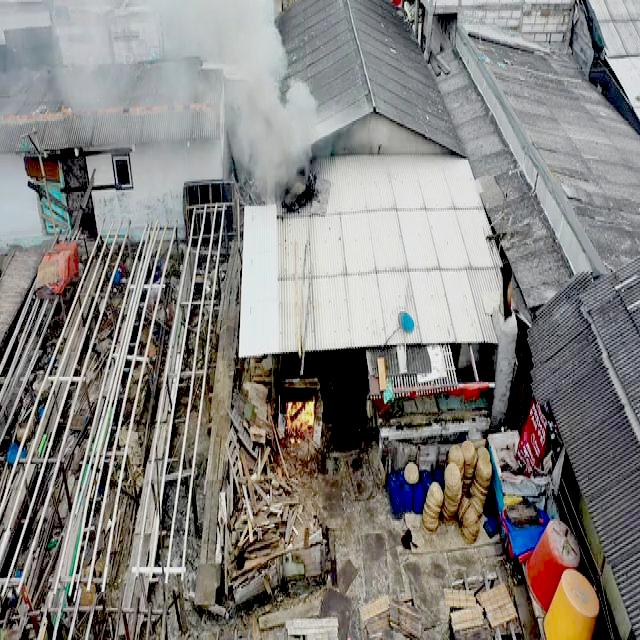smoke: (53, 0, 144, 124), (213, 0, 309, 113), (138, 0, 224, 124), (228, 96, 312, 198)
